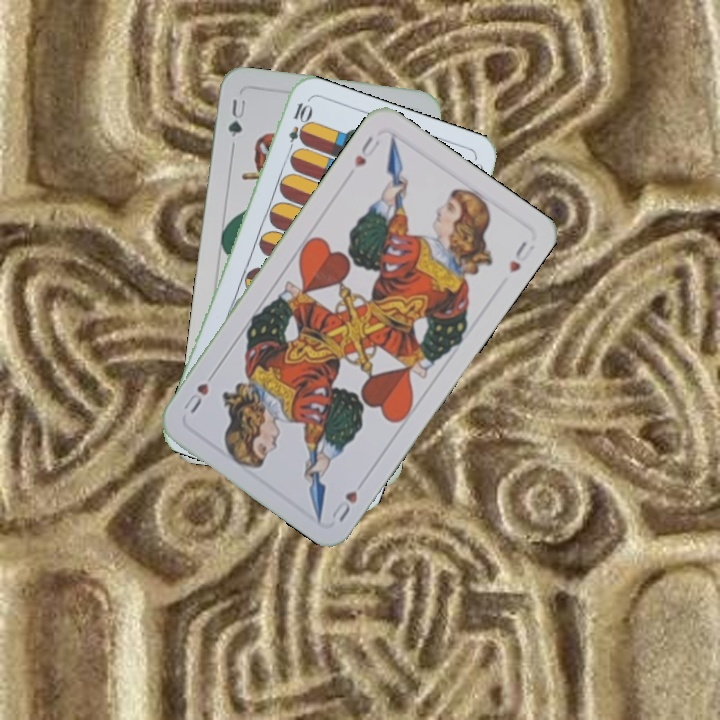E10: (283, 98, 312, 157)
GU: (224, 95, 249, 140)
HU: (327, 487, 361, 525), (350, 132, 383, 170)
